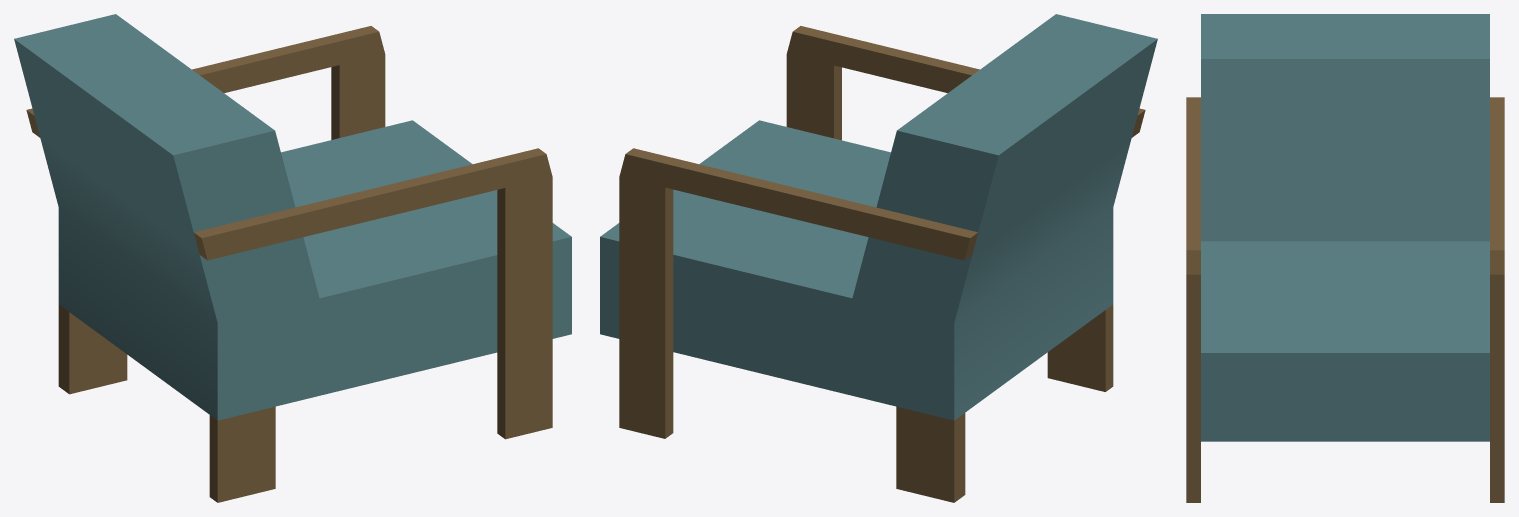
Rendered from SofaShortBlue.fbx.
3 renders of one model, left to right at view 1: azimuth 30°, elevation 25°; view 2: azimuth 150°, elevation 25°; view 3: azimuth 270°, elevation 25°, orthographic. The views are drawn at different scales.
Visible parts, largest first — view 1: pCube2; view 2: pCube2; view 3: pCube2.
Part boxes in pixels (left/top/right/bottom): pCube2: left=14, top=14, right=571, bottom=502; pCube2: left=600, top=14, right=1157, bottom=502; pCube2: left=1186, top=14, right=1504, bottom=502.
Size of the model in its own units: 8.16 by 7.01 by 6.22.
